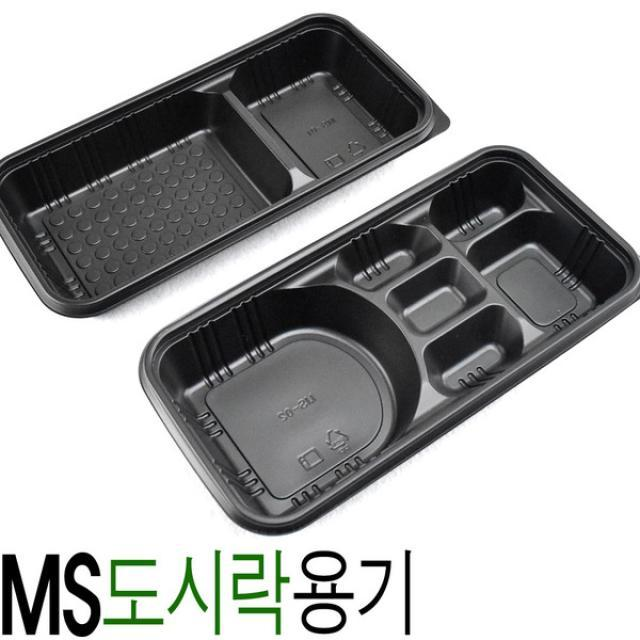container: (133, 137, 640, 586), (0, 0, 460, 327)
